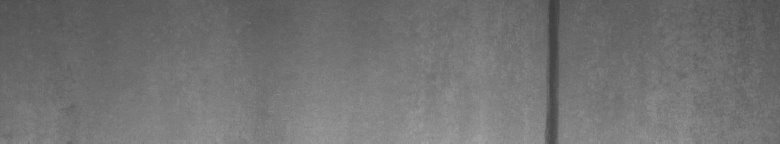hd: (540, 4, 566, 136)
